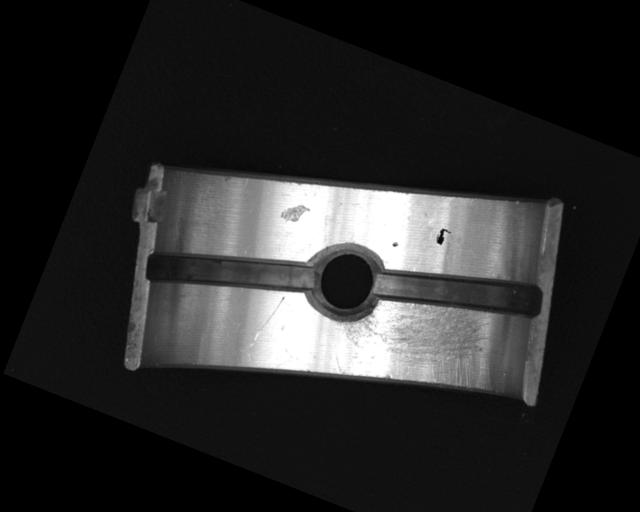blot: (433, 225, 453, 248)
bruise: (277, 198, 311, 230), (391, 240, 399, 248)
gap: (144, 208, 320, 335), (369, 229, 547, 351)
hole: (295, 231, 394, 329)
nick: (249, 290, 285, 352)
scratch: (326, 259, 520, 428)
